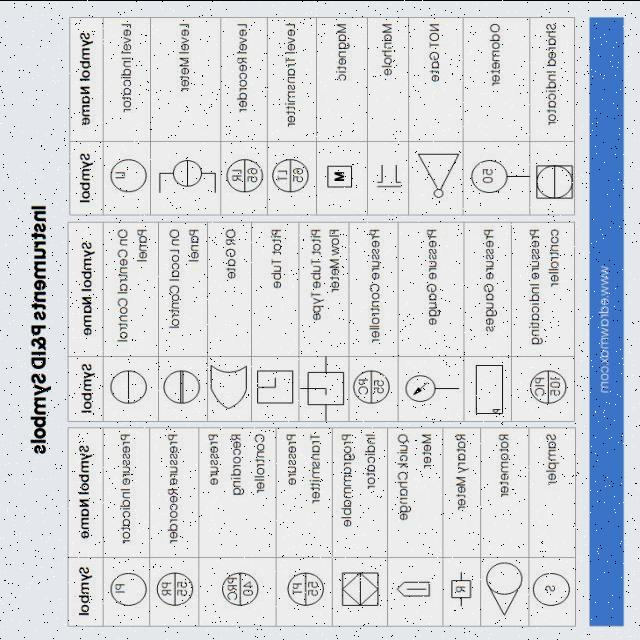Level Indicator: (104, 149, 149, 196)
Level Meter: (154, 149, 218, 205)
Level Recorder: (220, 150, 266, 202)
Level Trasmitter: (268, 148, 314, 196)
Mangnetic: (322, 152, 355, 192)
Manhole: (368, 156, 404, 190)
Not Gate: (412, 144, 466, 203)
Odometer: (468, 154, 524, 198)
Pressure Controller: (356, 378, 369, 396)
Pressure Gauge: (401, 359, 459, 407)
Pressure Indicating Controller: (522, 366, 570, 409)
Pressure Indicator: (106, 564, 148, 606)
Pressure Recorder: (155, 566, 194, 608)
Pressure Recording Controller: (212, 556, 260, 611)
Pressure Transmitter: (280, 568, 325, 606)
Rotary Meter: (444, 572, 471, 605)
Sampler: (533, 560, 576, 614)
